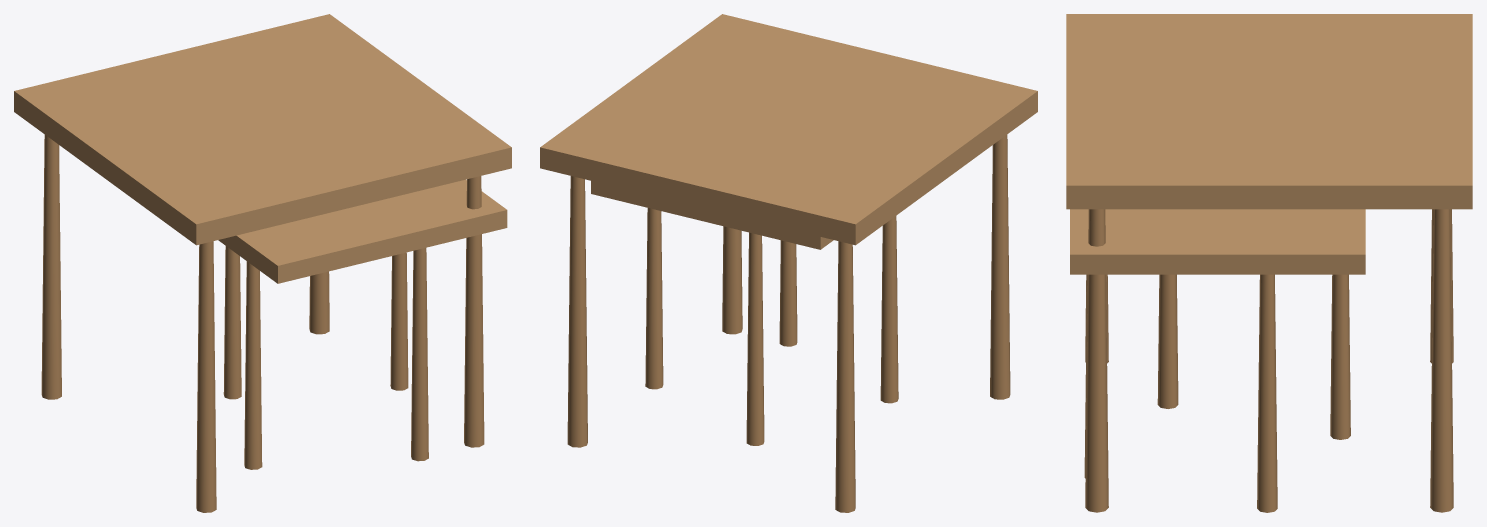
Rendered from nestingtable-lite.glb.
3 views of the same model, side by side, from view 1: azimuth 30°, elevation 25°; view 2: azimuth 150°, elevation 25°; view 3: azimuth 270°, elevation 25° (orthographic). The views are drawn at different scales.
Visible parts, largest first — view 1: material-0-top, material-1-leg; view 2: material-0-top, material-1-leg; view 3: material-0-top, material-1-leg.
Part boxes in pixels (x1,y1,x2,y2): material-0-top: (14,14,511,283); material-1-leg: (41,135,484,512); material-0-top: (540,14,1037,249); material-1-leg: (567,135,1010,512); material-0-top: (1066,14,1472,274); material-1-leg: (1084,209,1453,512).
Bounding box in the file's own units: 0.55 × 0.5 × 0.55.
